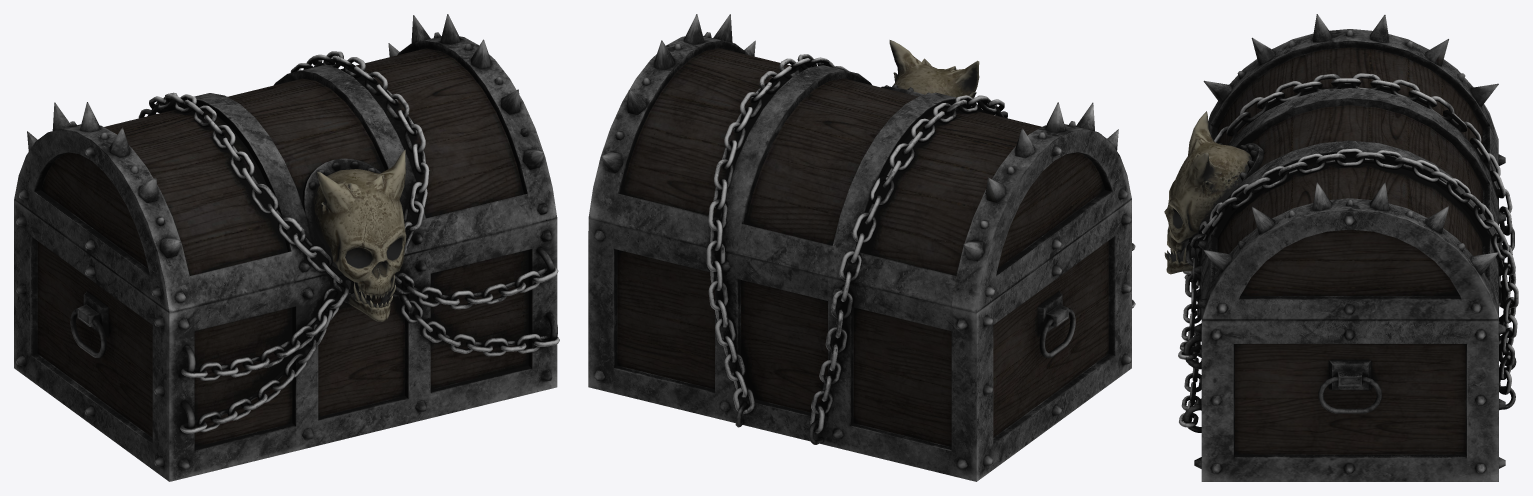
File: chest_06.gltf
3 renders of one model, left to right at view 1: azimuth 30°, elevation 25°; view 2: azimuth 150°, elevation 25°; view 3: azimuth 270°, elevation 25°, orthographic. The views are drawn at different scales.
Visible parts, largest first — view 1: defaultMaterial; view 2: defaultMaterial; view 3: defaultMaterial.
Boxes of the visible parts, box(x1,y1,x2,y2) form: defaultMaterial: box(14, 14, 559, 481); defaultMaterial: box(588, 14, 1135, 481); defaultMaterial: box(1164, 14, 1518, 481).
Bounding box in the file's own units: 1 × 0.7228 × 0.7919.
Materials: 4 (4 with a texture image).
